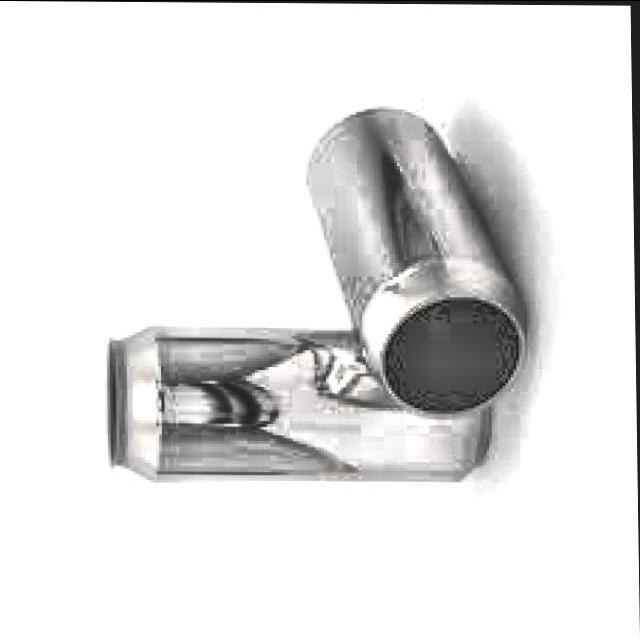litter: (298, 100, 549, 424), (98, 320, 505, 488)
